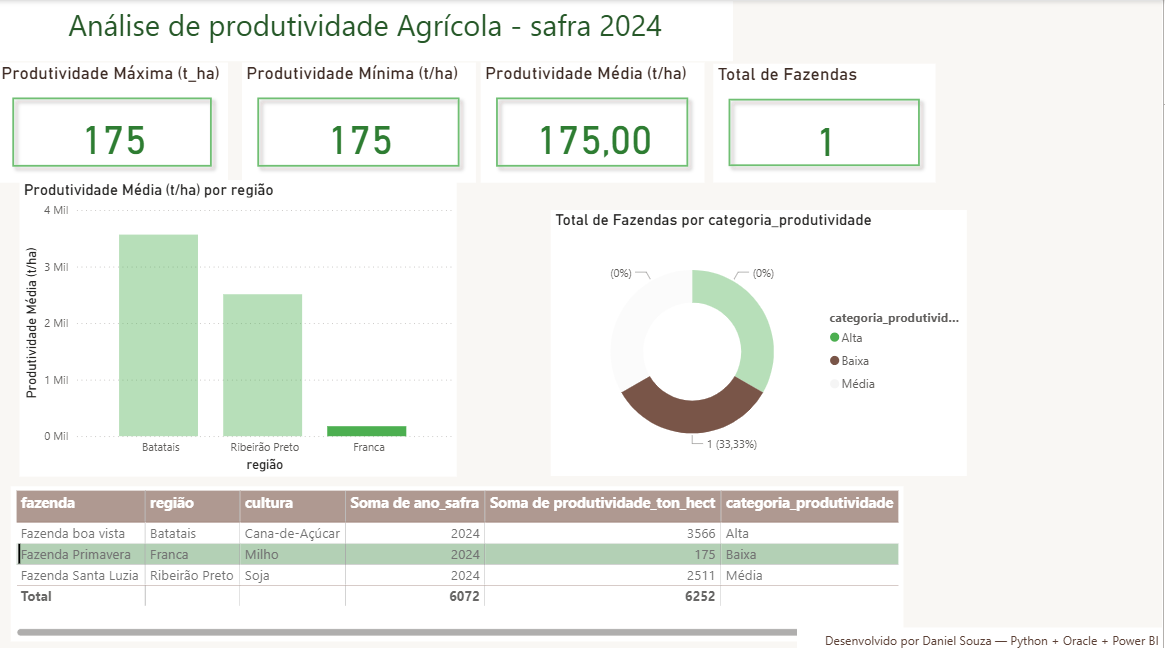

The dashboard page shown, as its layout file describes it:
{"tool":"powerbi","page":{"name":"Página 1","canvas":[1280,720],"ordinal":0},"visuals":[{"type":"cardVisual","title":"Produtividade Máxima (t_ha)","fields":{"Data":["produtividade_tratada.Produtividade Máxima (t/ha)"]},"box":[0,68.6,253.9,131.7],"z":0},{"type":"cardVisual","title":"Produtividade Média (t/ha)","fields":{"Data":["produtividade_tratada.Produtividade Média (t/ha)"]},"box":[531,68.6,245.6,131.7],"z":1},{"type":"cardVisual","title":"Produtividade Mínima (t/ha)","fields":{"Data":["produtividade_tratada.Produtividade Mínima (t/ha)"]},"box":[269,68.6,256.6,131.7],"z":2},{"type":"cardVisual","title":"Total  de Fazendas","fields":{"Data":["produtividade_tratada.Total de Fazendas"]},"box":[786.3,70,244.3,130.4],"z":3},{"type":"columnChart","fields":{"Category":["produtividade_tratada.região"],"Y":["produtividade_tratada.Produtividade Média (t/ha)"]},"box":[24.7,197.6,480.3,325.2],"z":4},{"type":"donutChart","fields":{"Category":["produtividade_tratada.categoria_produtividade"],"Y":["produtividade_tratada.Total de Fazendas"]},"box":[607.9,230.5,456.9,292.3],"z":5},{"type":"tableEx","fields":{"Values":["produtividade_tratada.fazenda","produtividade_tratada.região","produtividade_tratada.cultura","Sum(produtividade_tratada.ano_safra)","Sum(produtividade_tratada.produtividade_ton_hect)","produtividade_tratada.categoria_produtividade"]},"box":[15.1,533.8,979.8,170.2],"z":6},{"type":"textbox","box":[0,0,808.2,67.2],"z":7},{"type":"textbox","box":[877.9,688.4,402.1,31.6],"z":8}]}

Visuals, with their boxes in screenshot pixels (x1, y1, x2, y2), scaled from the page's 1280x720 canvas onto the 1165x648 screenshot:
"Produtividade Máxima (t_ha)" cardVisual: l=0, t=62, r=231, b=180
"Produtividade Média (t/ha)" cardVisual: l=483, t=62, r=707, b=180
"Produtividade Mínima (t/ha)" cardVisual: l=245, t=62, r=478, b=180
"Total  de Fazendas" cardVisual: l=716, t=63, r=938, b=180
columnChart - produtividade_tratada.região x produtividade_tratada.Produtividade Média (t/ha): l=22, t=178, r=460, b=471
donutChart - produtividade_tratada.categoria_produtividade x produtividade_tratada.Total de Fazendas: l=553, t=207, r=969, b=471
tableEx - produtividade_tratada.fazenda x produtividade_tratada.região: l=14, t=480, r=906, b=634
textbox: l=0, t=0, r=736, b=60
textbox: l=799, t=620, r=1164, b=647
